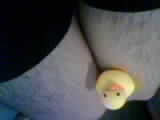duck: (90, 63, 131, 102)
